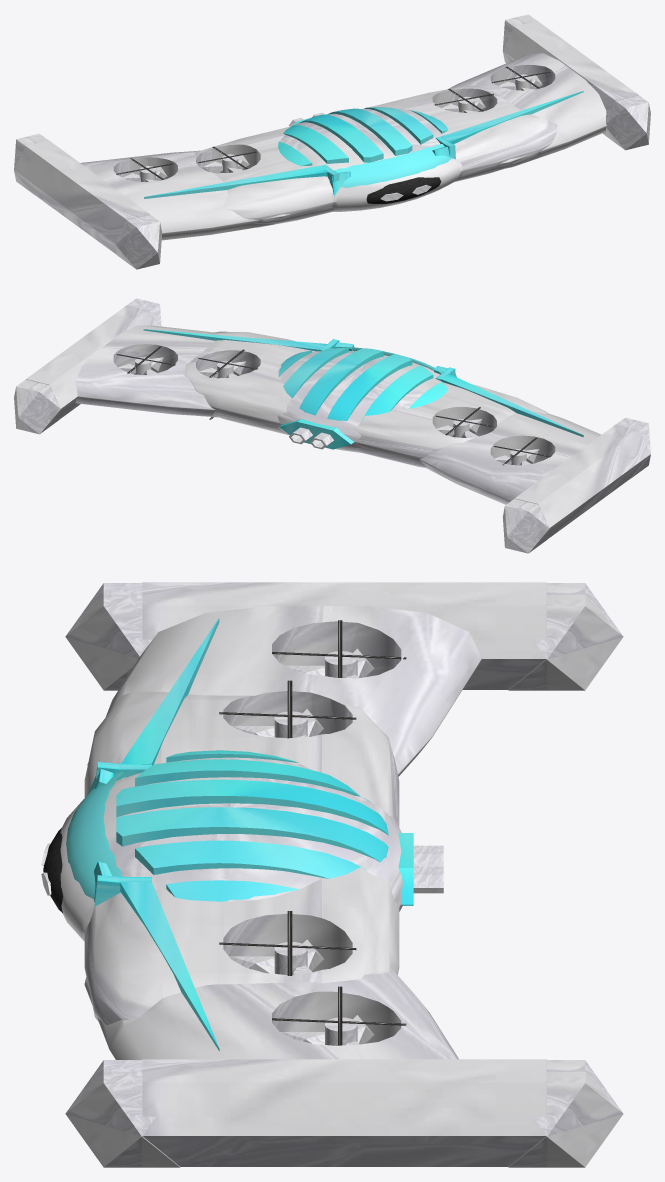
File: Pj-PrincipalTexturizado.fbx
3 renders of one model, top to bottom at view 1: azimuth 30°, elevation 25°; view 2: azimuth 150°, elevation 25°; view 3: azimuth 270°, elevation 25°, orthographic. The views are drawn at different scales.
Visible parts, largest first — view 1: Cuerpo, Gengon001, Sphere003, Gengon002, Sphere004, Hedra001, Hedra003, Prism002, Cara/malla, Prism001, Hedra002, Hedra004; view 2: Cuerpo, Gengon001, Sphere003, Gengon002, Hedra004, Hedra002, Prism002, Prism001, Gengon005, Hedra001, Hedra003; view 3: Cuerpo, Gengon002, Sphere003, Gengon001, Hedra003, Hedra004, Hedra002, Hedra001, Sphere004, Prism001, Prism002, Gengon005 (+2 smaller).
Boxes of the visible parts, box(x1,y1,x2,y2) form: Cuerpo: box(80, 53, 606, 240); Gengon001: box(14, 140, 149, 254); Sphere003: box(278, 107, 447, 166); Gengon002: box(503, 21, 638, 135); Sphere004: box(334, 144, 451, 187); Hedra001: box(115, 214, 161, 269); Hedra003: box(605, 95, 650, 150); Prism002: box(144, 165, 327, 198); Cara/malla: box(366, 177, 441, 203); Prism001: box(441, 91, 583, 144); Hedra002: box(14, 133, 48, 194); Hedra004: box(502, 14, 536, 63); Cuerpo: box(75, 325, 601, 504); Gengon001: box(515, 424, 650, 538); Sphere003: box(278, 348, 448, 420); Gengon002: box(26, 305, 157, 419); Hedra004: box(14, 379, 60, 434); Hedra002: box(502, 498, 549, 553); Prism002: box(441, 374, 583, 437); Prism001: box(143, 329, 327, 351); Gengon005: box(279, 419, 353, 449); Hedra001: box(616, 417, 650, 478); Hedra003: box(128, 298, 161, 326); Cuerpo: box(60, 606, 481, 1059); Gengon002: box(142, 1059, 546, 1166); Sphere003: box(116, 750, 388, 901); Gengon001: box(142, 582, 546, 689); Hedra003: box(65, 1060, 180, 1167); Hedra004: box(508, 1060, 623, 1167); Hedra002: box(508, 583, 623, 690); Hedra001: box(65, 583, 152, 690); Sphere004: box(66, 771, 123, 899); Prism001: box(120, 882, 219, 1051); Prism002: box(121, 618, 219, 765); Gengon005: box(398, 833, 413, 905).
Size of the model in its own units: 0.992 by 0.1137 by 0.4668.
4 materials, 4 textured.
